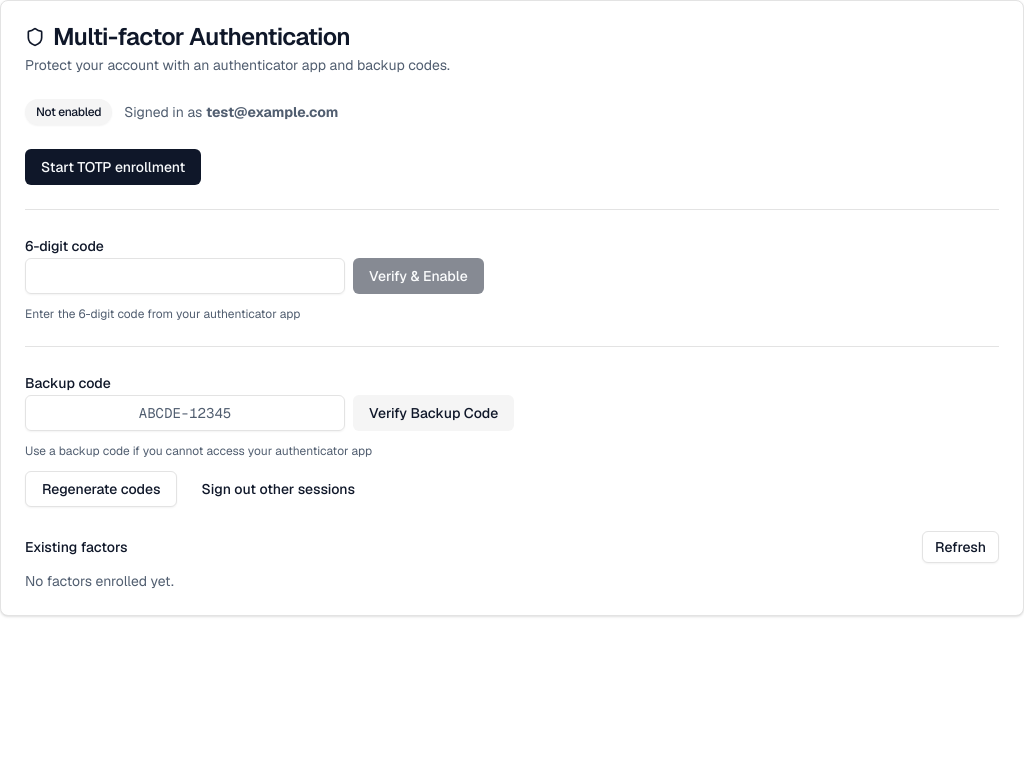
Scenario: MfaPanel › refreshes factors
The width and height of the screenshot is (1024, 768).
Click the button "Refresh". click: (961, 547)
box: [922, 531, 999, 563]
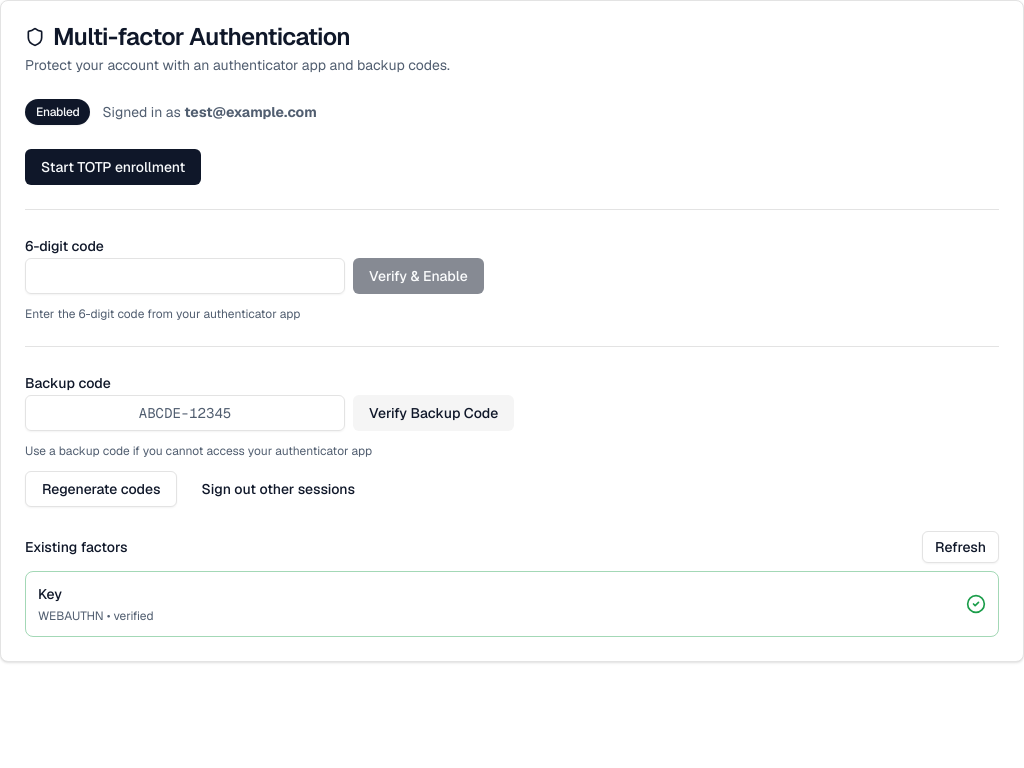
Now the text "Key" is shown, box [38, 585, 62, 603]
